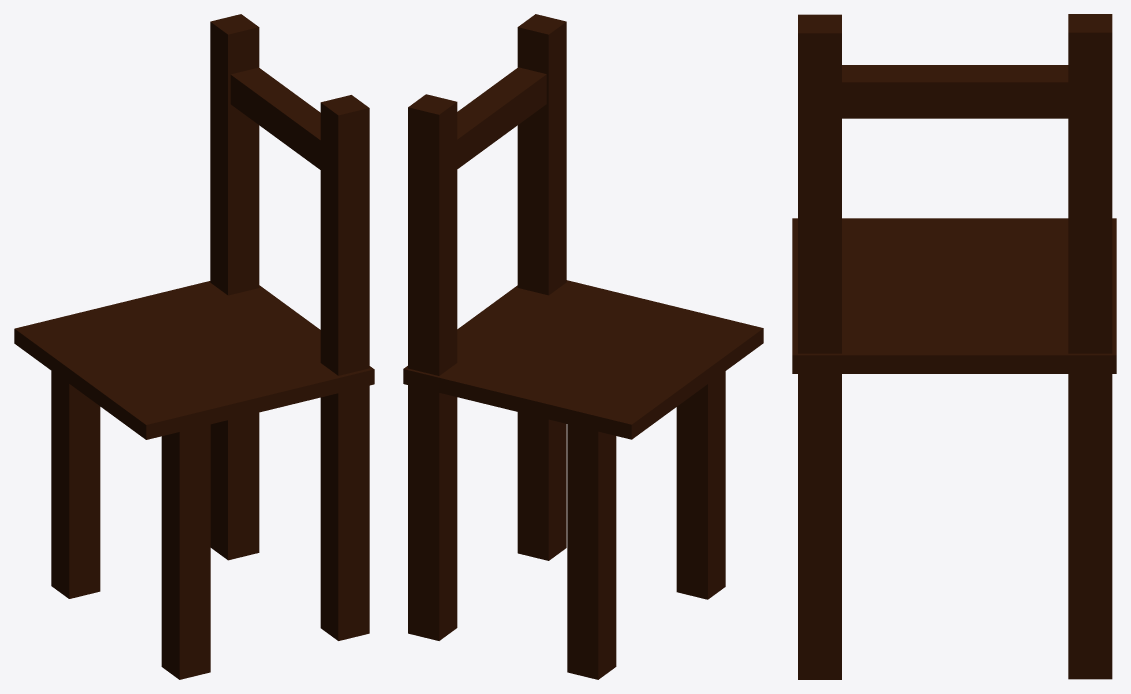
Rendered from chair.fbx.
The picture shows the model from 3 angles, left to right: view 1: azimuth 30°, elevation 25°; view 2: azimuth 150°, elevation 25°; view 3: azimuth 270°, elevation 25°; orthographic projection. The views are drawn at different scales.
Parts seen in each view (by area): view 1: chair; view 2: chair; view 3: chair.
Part boxes in pixels (<box>): chair: <box>14,14,374,679</box>; chair: <box>403,14,763,679</box>; chair: <box>792,14,1116,679</box>.
Size of the model in its own units: 41.43 by 91.25 by 41.43.
